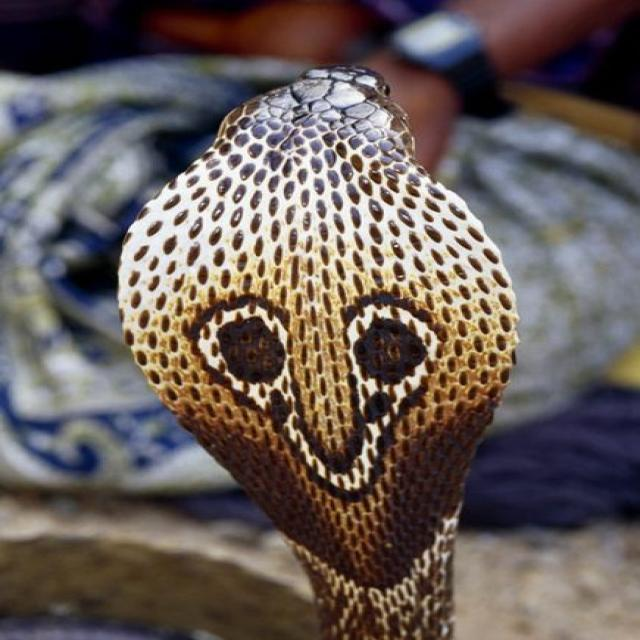Snake: (113, 62, 521, 639)
